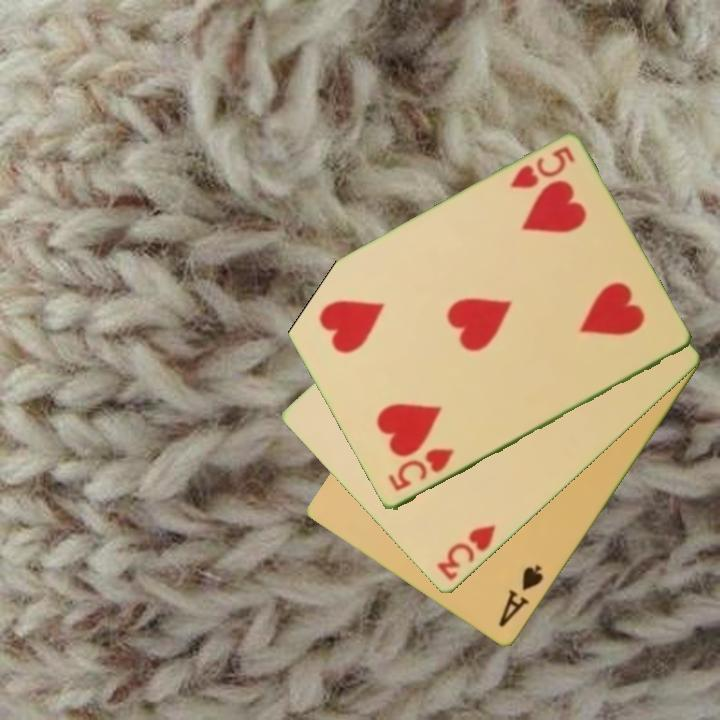3h: (433, 522, 499, 585)
5h: (384, 445, 457, 495), (506, 143, 578, 193)
As: (495, 561, 547, 631)
